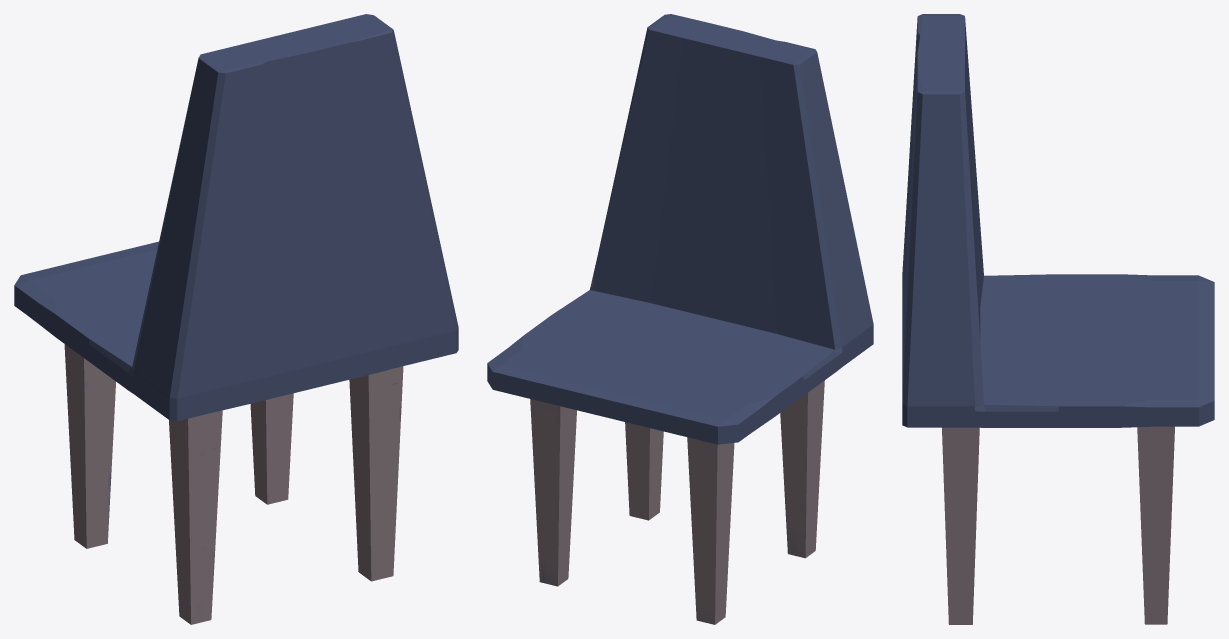
The model's file is chair.fbx.
3 renders of one model, left to right at view 1: azimuth 30°, elevation 25°; view 2: azimuth 150°, elevation 25°; view 3: azimuth 270°, elevation 25°, orthographic. The views are drawn at different scales.
Parts seen in each view (by area): view 1: chair; view 2: chair; view 3: chair.
Part boxes in pixels (x1=…): chair: x1=14, y1=14, x2=458, y2=624; chair: x1=487, y1=14, x2=873, y2=624; chair: x1=902, y1=14, x2=1214, y2=624.
Bounding box in the file's own units: 146 × 271 × 146.
1 material, 1 textured.
